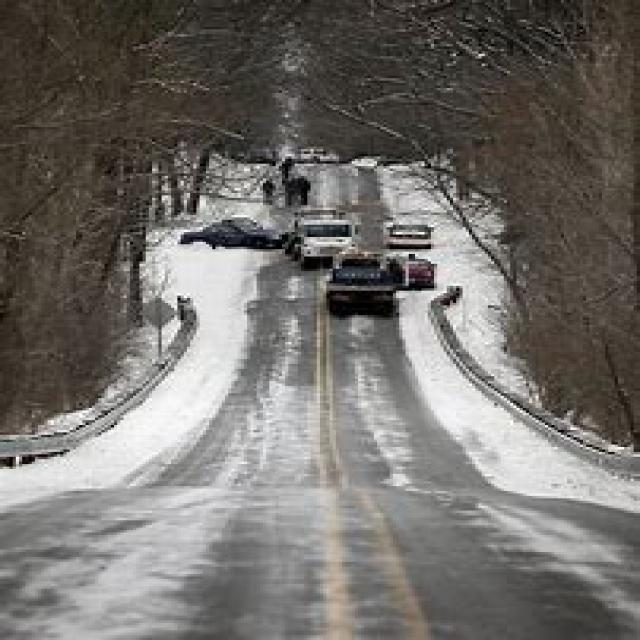Accident: (201, 93, 595, 409)
